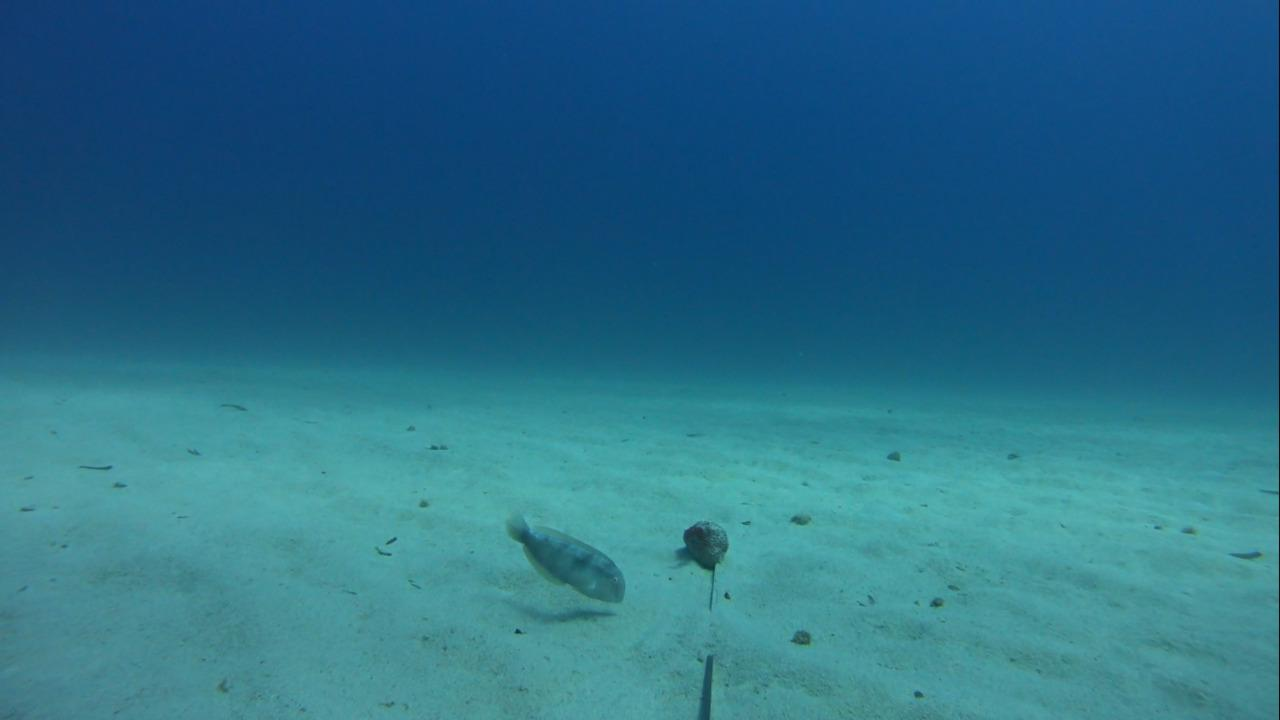raor: (499, 507, 630, 610)
